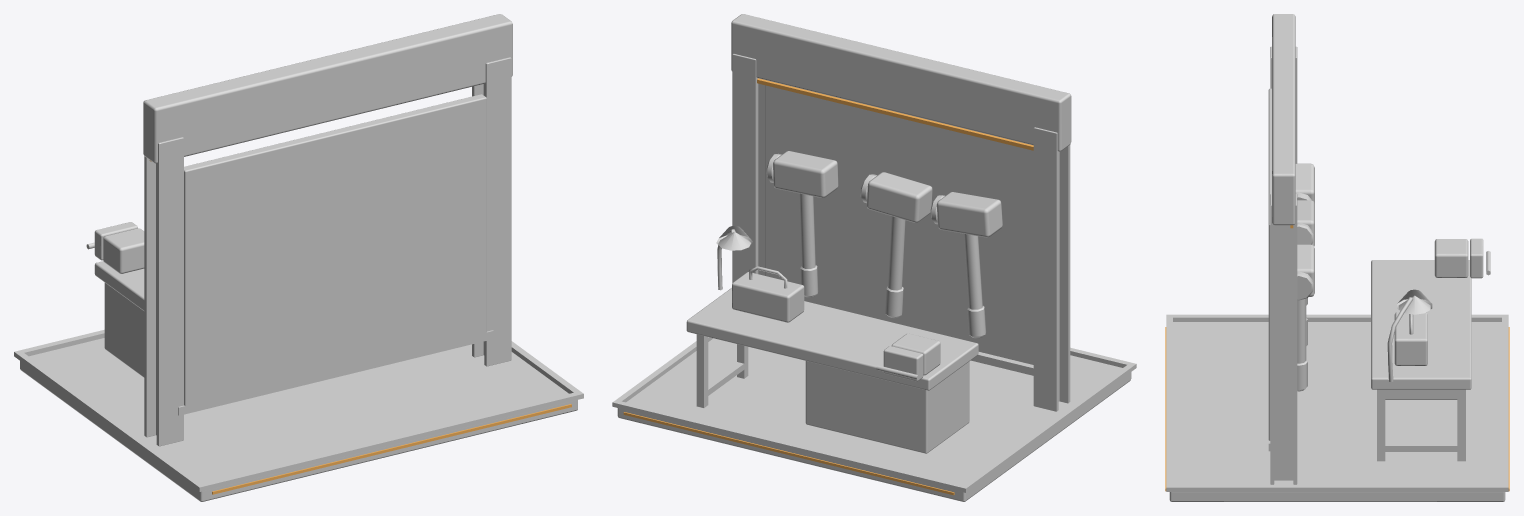
Rendered from ToolRack.glb.
3 views of the same model, side by side, from view 1: azimuth 30°, elevation 25°; view 2: azimuth 150°, elevation 25°; view 3: azimuth 270°, elevation 25° (orthographic). The views are drawn at different scales.
Visible parts, largest first — view 1: Body, Glow; view 2: Body, Glow; view 3: Body, Glow.
Boxes of the visible parts, x1,y1,x2,y2 form: Body: (14, 14, 583, 501); Glow: (149, 160, 571, 494); Body: (612, 14, 1136, 501); Glow: (623, 78, 1033, 495); Body: (1166, 14, 1508, 501); Glow: (1165, 225, 1509, 491).
Bounding box in the file's own units: 12.2 × 10.63 × 10.26.
